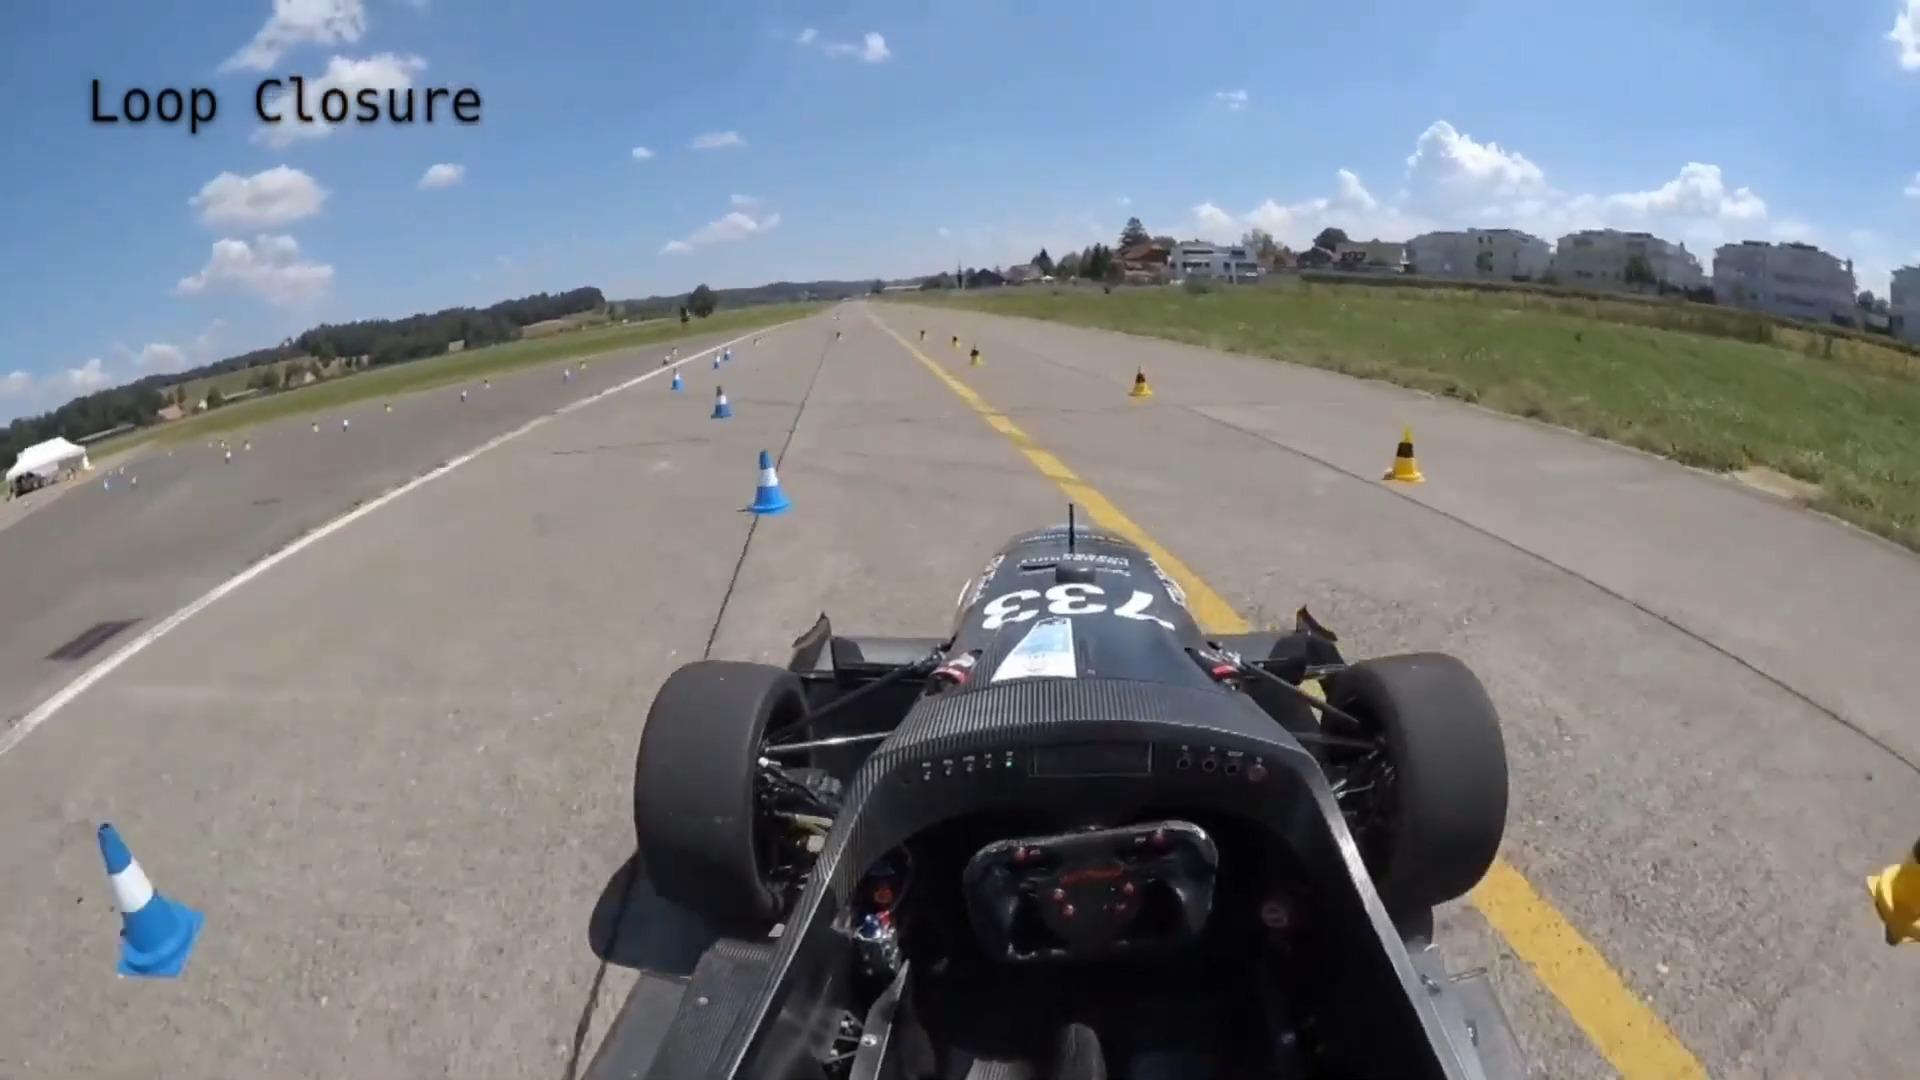blue_cone: (98, 825, 206, 978), (748, 448, 795, 516), (711, 386, 736, 419)
yellow_cone: (1383, 423, 1427, 480), (1129, 364, 1155, 398)
